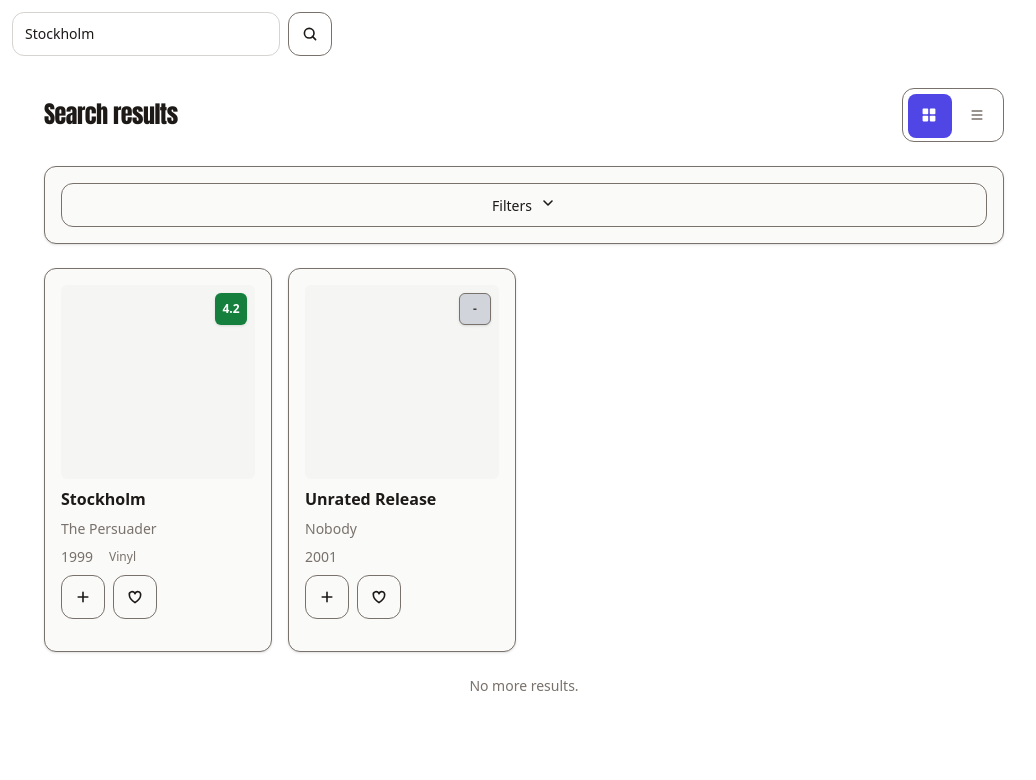
Scenario: Search results flow (US2) › renders the enriched community rating badge on a search result without blocking add/preview (feature 017, US1)
Check: the text "Stockholm" is shown, box [61, 488, 146, 510]
Check: the text "4.2" is shown, box [215, 293, 247, 325]
Click the button named "add to library" below "1999": (83, 597) [61, 575, 105, 619]
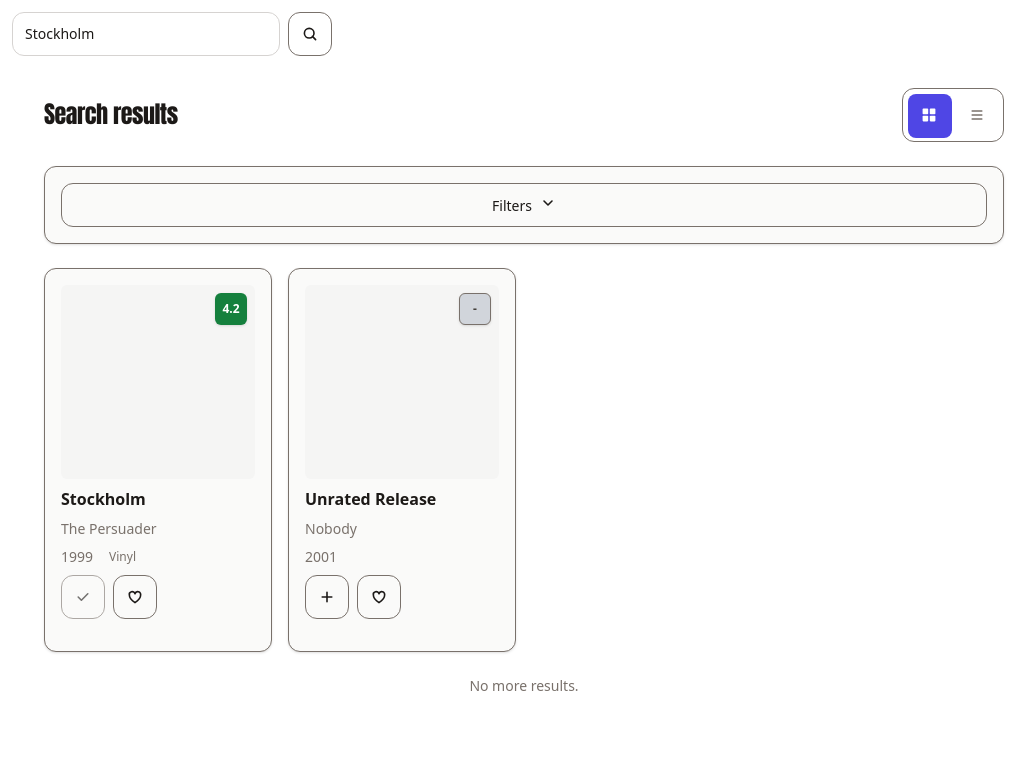
Check: the button named "added to library" is shown, box [61, 575, 105, 619]
